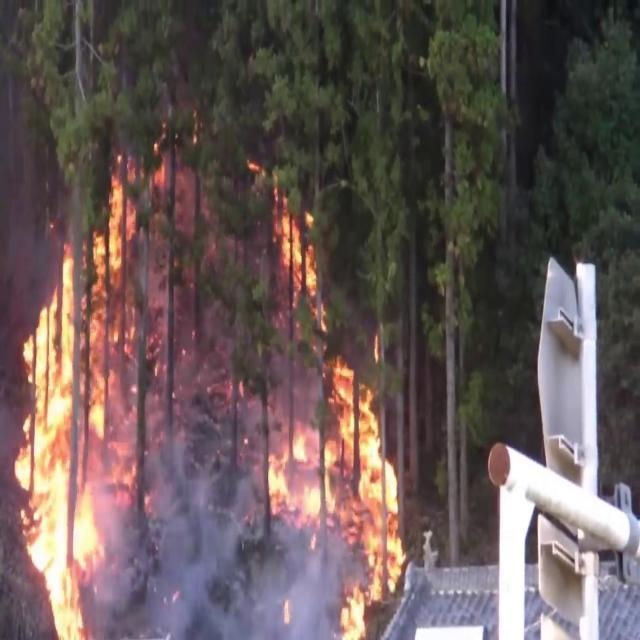Fire: (250, 214, 416, 640), (6, 168, 144, 638)
Smoke: (112, 383, 328, 628)
